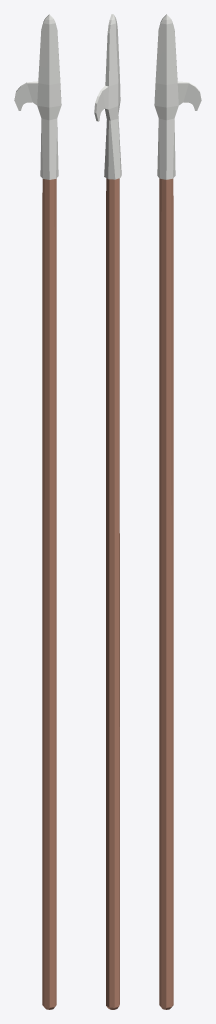
File: ankers-low-poly-medieval-weapons--polearm.glb
3 renders of one model, left to right at view 1: azimuth 90°, elevation 25°; view 2: azimuth 150°, elevation 25°; view 3: azimuth 270°, elevation 25°, orthographic.
Parts seen in each view (by area): view 1: Polearm; view 2: Polearm; view 3: Polearm.
Part boxes in pixels (x1=…): Polearm: x1=14, y1=14, x2=61, y2=1009; Polearm: x1=94, y1=14, x2=121, y2=1009; Polearm: x1=154, y1=14, x2=201, y2=1009.
Bounding box in the file's own units: 0.0458 × 2.75 × 0.1179.
